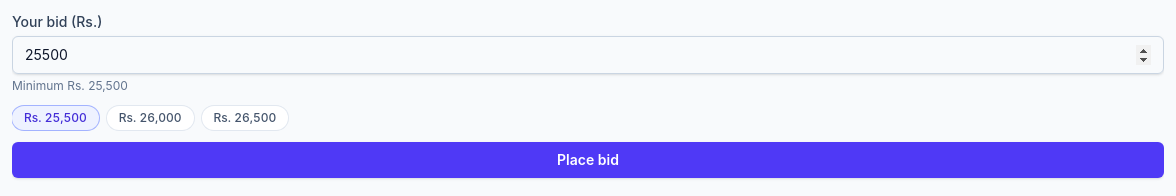
Test: <BidForm> › fills the box with a quick amount without placing the bid
Step 1. Click the button "Rs. 26,500" → (245, 118), box [202,106,288,130]
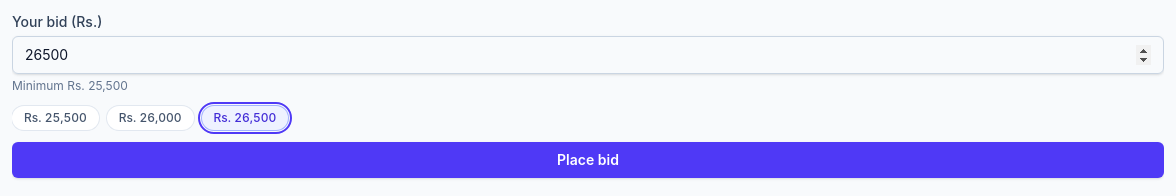
Expected: the number field labelled "Your bid (Rs.)" holds "26500", [12,36,1164,74]
